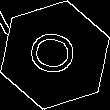O_E: (25, 29, 85, 81)
